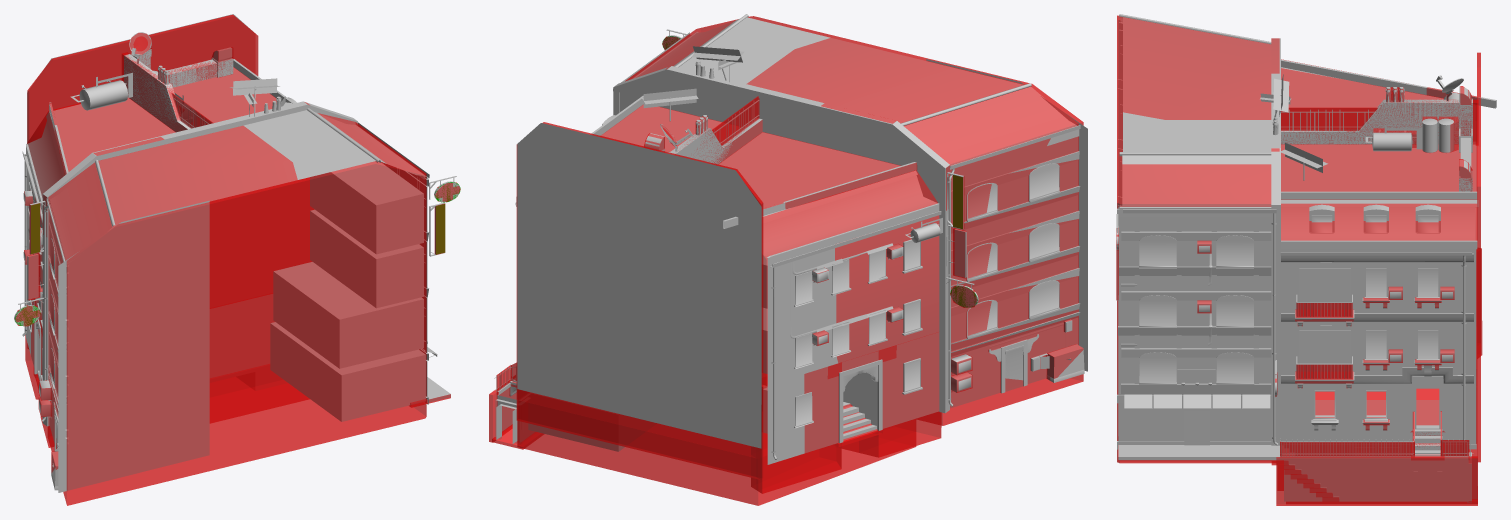
The model's file is CT_building_034.dae.
3 renders of one model, left to right at view 1: azimuth 30°, elevation 25°; view 2: azimuth 150°, elevation 25°; view 3: azimuth 270°, elevation 25°, orthographic. The views are drawn at different scales.
Visible parts, largest first — view 1: colmesh-2, _034_building100, _034_building400, _034_building800; view 2: _034_building100, _034_building400, colmesh-2, _034_building800; view 3: _034_building100, _034_building400, colmesh-2, _034_building800.
Boxes of the visible parts, x1=… form: colmesh-2: x1=15, y1=14, x2=460, y2=505; _034_building100: x1=15, y1=14, x2=459, y2=492; _034_building400: x1=14, y1=48, x2=460, y2=489; _034_building800: x1=22, y1=32, x2=437, y2=490; _034_building100: x1=495, y1=16, x2=1087, y2=464; _034_building400: x1=494, y1=19, x2=1087, y2=464; colmesh-2: x1=489, y1=16, x2=1083, y2=505; _034_building800: x1=497, y1=14, x2=1084, y2=458; _034_building100: x1=1116, y1=15, x2=1496, y2=502; _034_building400: x1=1116, y1=20, x2=1476, y2=501; colmesh-2: x1=1116, y1=15, x2=1482, y2=505; _034_building800: x1=1119, y1=14, x2=1473, y2=455.
Size of the model in its own units: 273 by 218 by 210.
